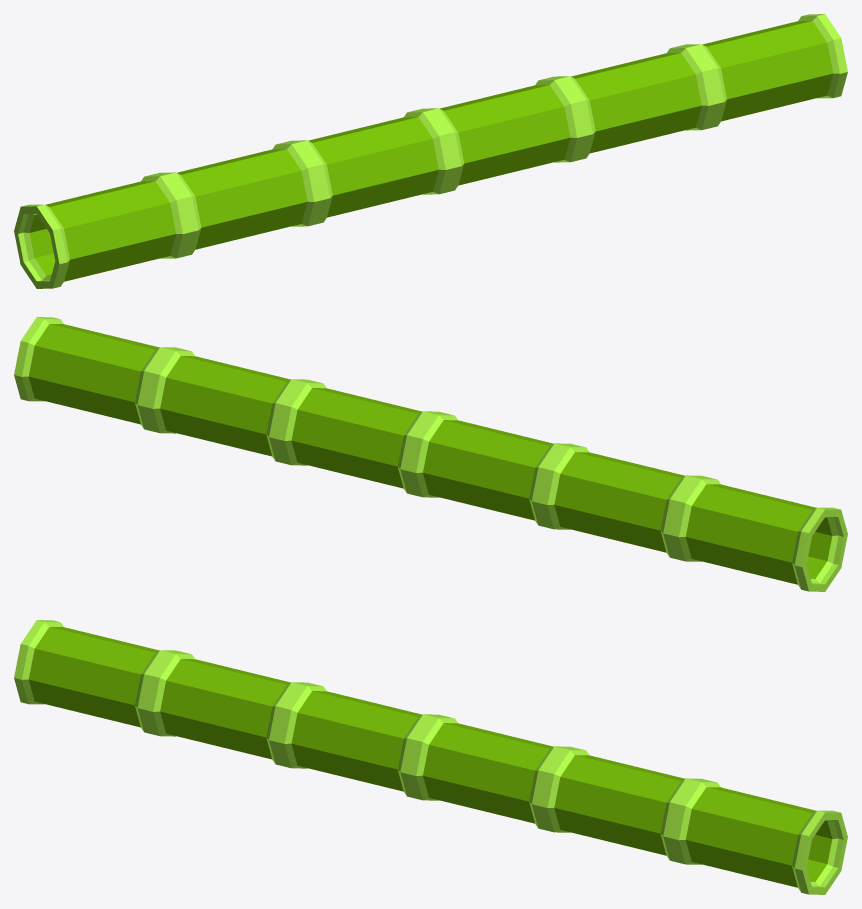
The model's file is Bamboo.glb.
3 renders of one model, top to bottom at view 1: azimuth 30°, elevation 25°; view 2: azimuth 150°, elevation 25°; view 3: azimuth 330°, elevation 25°, orthographic.
Parts seen in each view (by area): view 1: Bamboo; view 2: Bamboo; view 3: Bamboo.
Part boxes in pixels (box(x1,y1,x2,y2)): Bamboo: box(14, 14, 847, 288); Bamboo: box(14, 317, 847, 591); Bamboo: box(14, 620, 847, 894).
Size of the model in its own units: 1 by 0.1 by 0.1.
